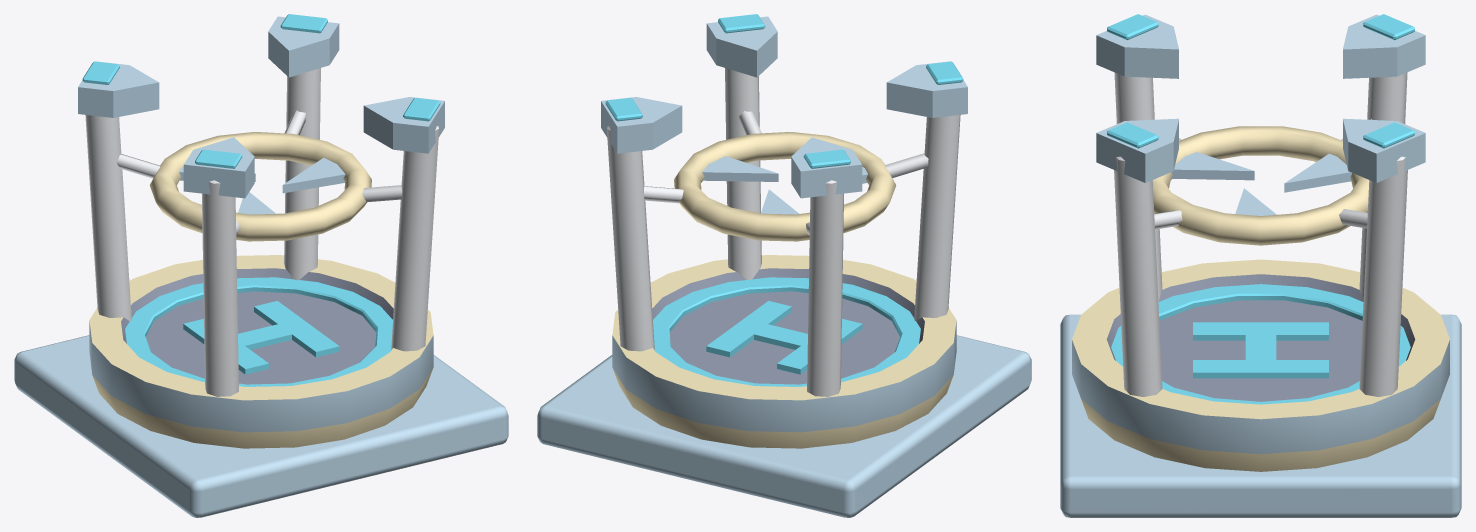
File: R4X_FlyingDroneDeployer.fbx
3 renders of one model, left to right at view 1: azimuth 30°, elevation 25°; view 2: azimuth 150°, elevation 25°; view 3: azimuth 270°, elevation 25°, orthographic. The views are drawn at different scales.
Visible parts, largest first — view 1: R4X_FlyingDroneDeployer_Body, R4X_FlyingDroneDeployer_Iris; view 2: R4X_FlyingDroneDeployer_Body, R4X_FlyingDroneDeployer_Iris; view 3: R4X_FlyingDroneDeployer_Body, R4X_FlyingDroneDeployer_Iris.
Boxes of the visible parts, x1,y1,x2,y2 form: R4X_FlyingDroneDeployer_Body: [14, 14, 508, 517]; R4X_FlyingDroneDeployer_Iris: [149, 132, 371, 241]; R4X_FlyingDroneDeployer_Body: [537, 14, 1031, 517]; R4X_FlyingDroneDeployer_Iris: [674, 132, 896, 241]; R4X_FlyingDroneDeployer_Body: [1060, 14, 1461, 517]; R4X_FlyingDroneDeployer_Iris: [1152, 126, 1369, 245].
Bounding box in the file's own units: 0.52 × 0.513 × 0.52.
